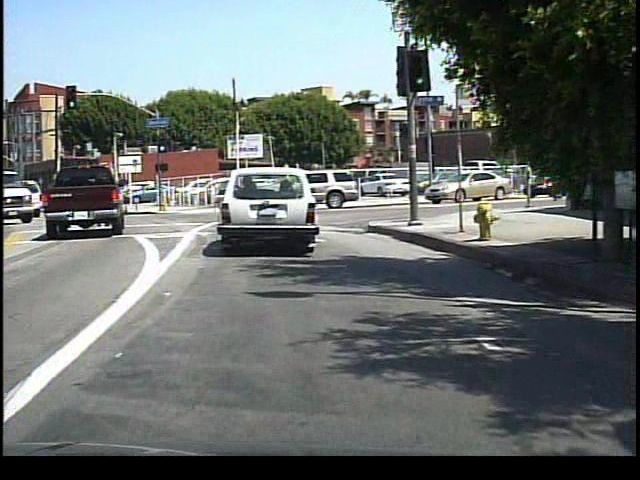person: (405, 163, 424, 204)
